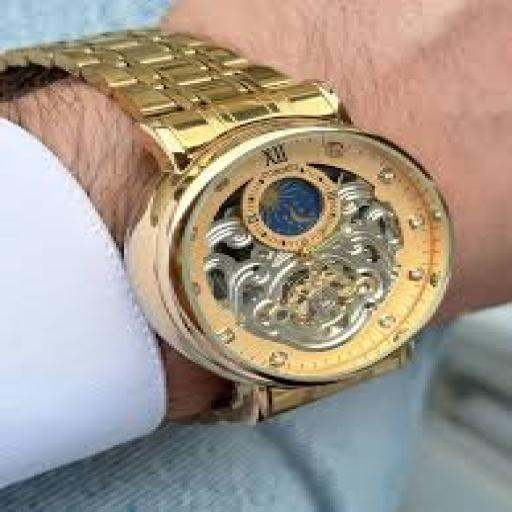KolSaati: (1, 1, 468, 446)
